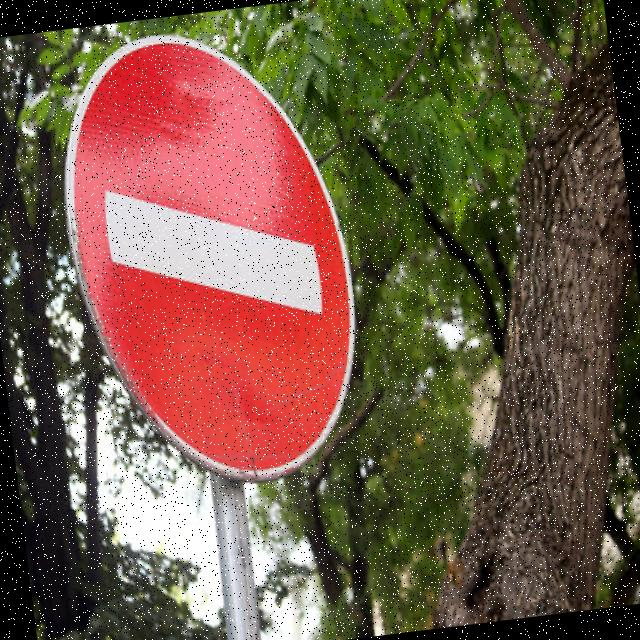do_not_enter: (34, 8, 383, 518)
